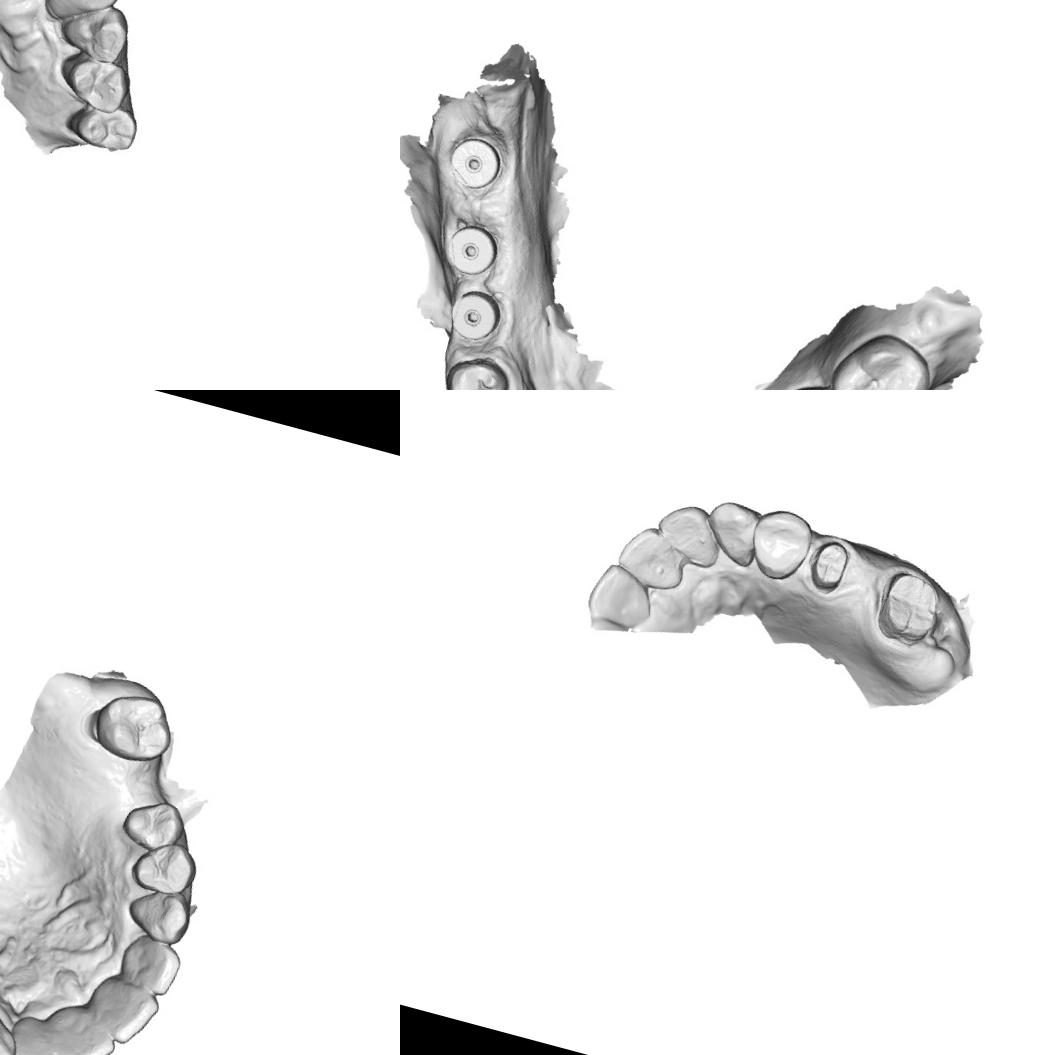canine: (58, 0, 137, 72), (119, 878, 196, 950), (696, 495, 765, 568), (0, 1000, 25, 1055)
crown: (872, 566, 946, 650), (805, 534, 856, 595)
implant: (443, 283, 507, 347), (438, 218, 504, 280), (444, 132, 505, 194)
incisor: (648, 495, 730, 571), (610, 520, 692, 596), (86, 977, 164, 1052), (582, 558, 660, 633), (113, 928, 186, 1000), (43, 1000, 123, 1055), (0, 1011, 67, 1055), (49, 0, 131, 30)
molar: (85, 679, 181, 770), (818, 322, 936, 390)
premolar: (742, 503, 818, 586), (54, 46, 132, 116), (126, 832, 202, 901), (116, 790, 190, 858), (63, 96, 138, 162), (433, 349, 512, 390)
